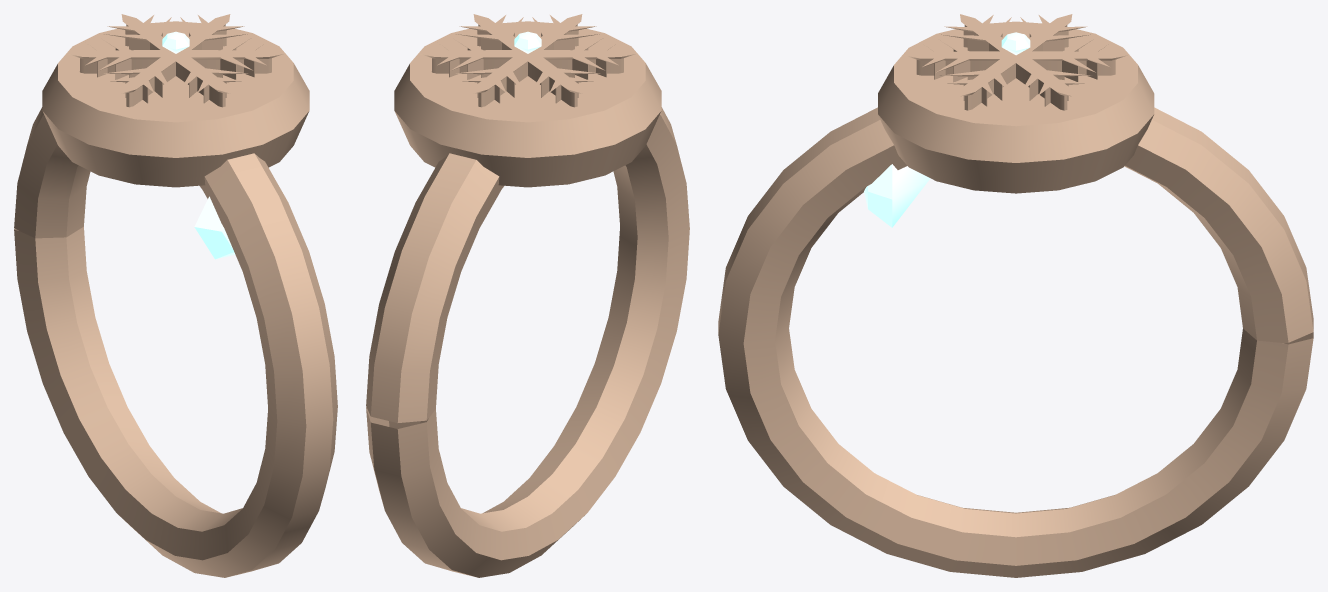
Rendered from asc_everlasting_bulwark_accessory.glb.
3 renders of one model, left to right at view 1: azimuth 30°, elevation 25°; view 2: azimuth 150°, elevation 25°; view 3: azimuth 270°, elevation 25°, orthographic. The views are drawn at different scales.
Parts seen in each view (by area): view 1: asc_everlasting_bulwark_accessory; view 2: asc_everlasting_bulwark_accessory; view 3: asc_everlasting_bulwark_accessory.
Part boxes in pixels (x1,y1,x2,y2): asc_everlasting_bulwark_accessory: (14,14,337,577); asc_everlasting_bulwark_accessory: (366,14,689,577); asc_everlasting_bulwark_accessory: (718,14,1313,577).
Size of the model in its own units: 0.068 by 0.1434 by 0.1442.
